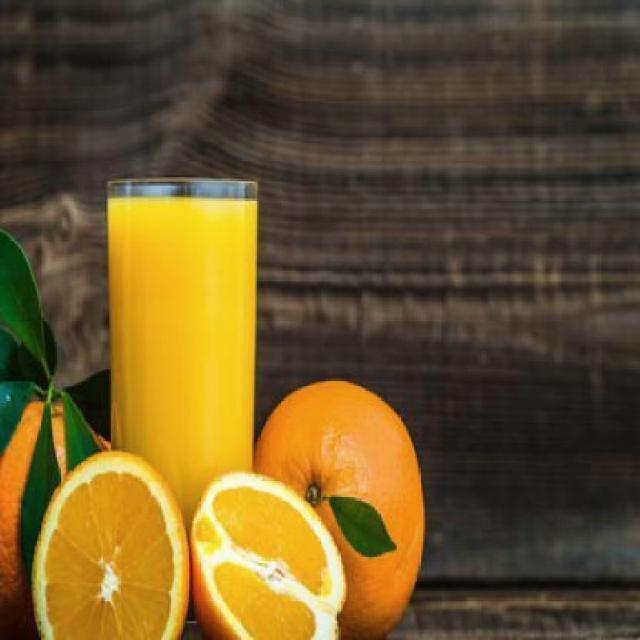Jeruk Sudah Matang: (242, 373, 429, 638), (0, 388, 117, 638)
